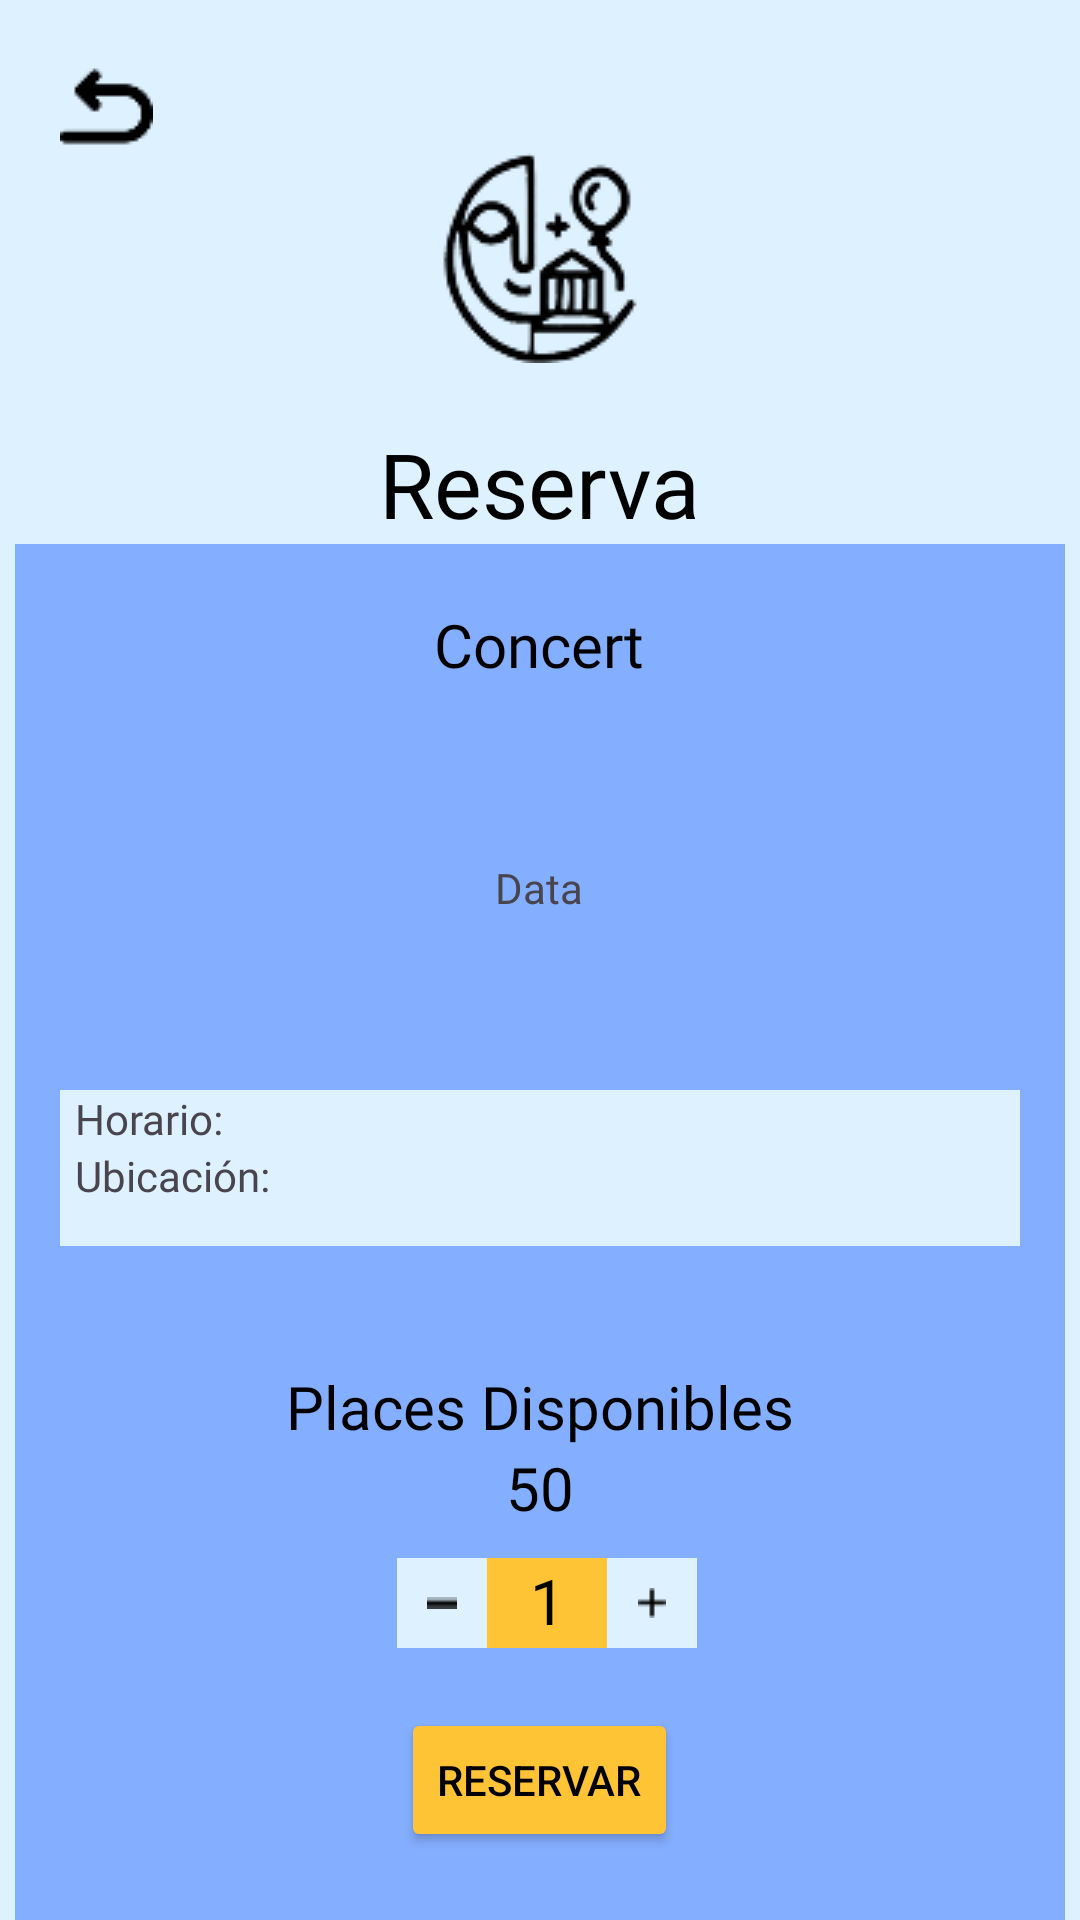

Icons on this 1080x1920 Android screen, each with its box as (x1, y1, x2, y2):
imgmas: (607, 1558, 697, 1648)
imgmenos: (397, 1558, 487, 1648)
imgvolver: (60, 68, 153, 145)
